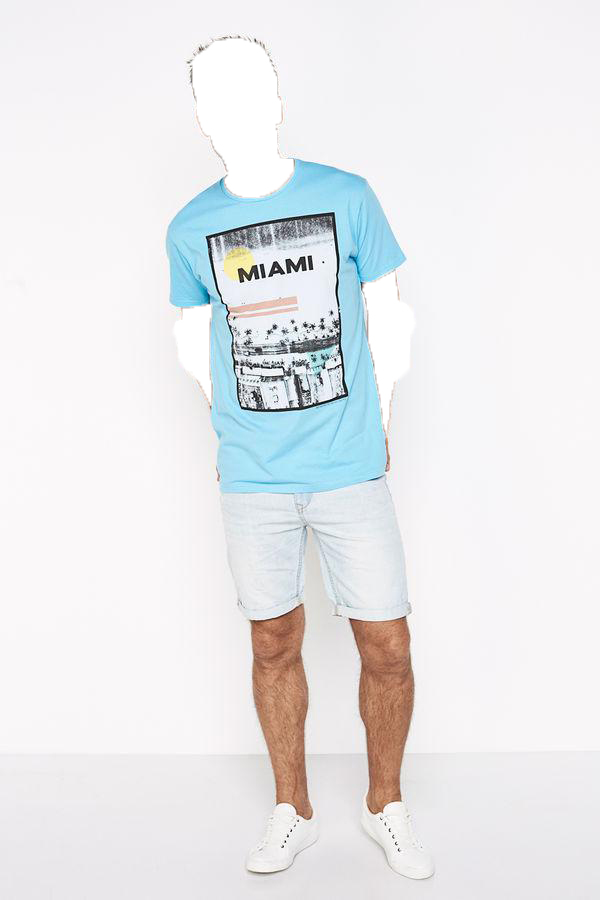teeshirt: (155, 154, 423, 493)
